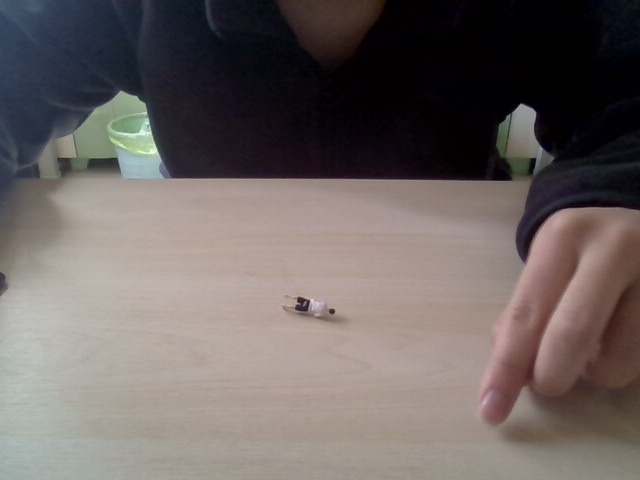fall: (277, 285, 341, 323)
